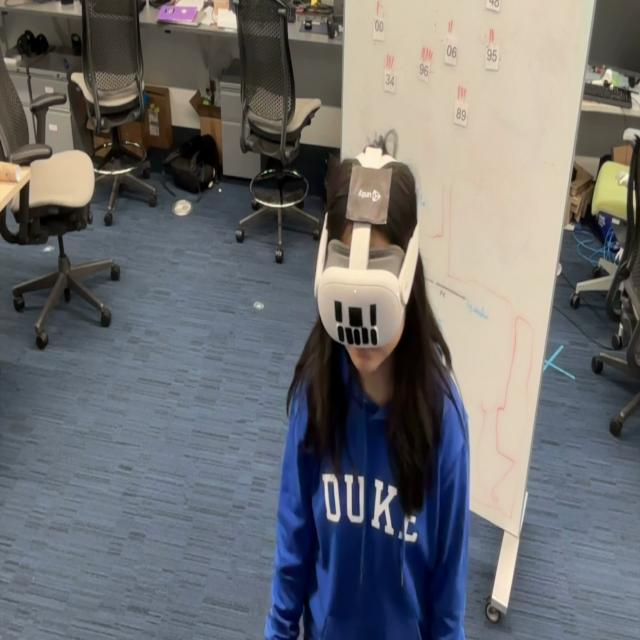UnityLogo: (350, 153, 389, 233)
